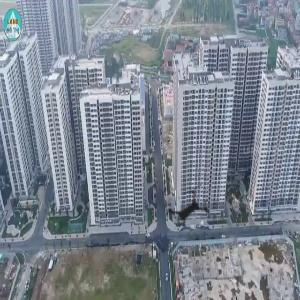drone: (149, 167, 229, 247)
